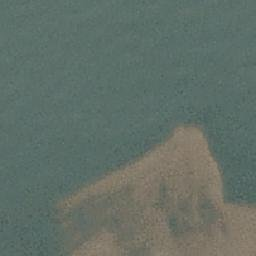debris: (51, 121, 256, 256)
